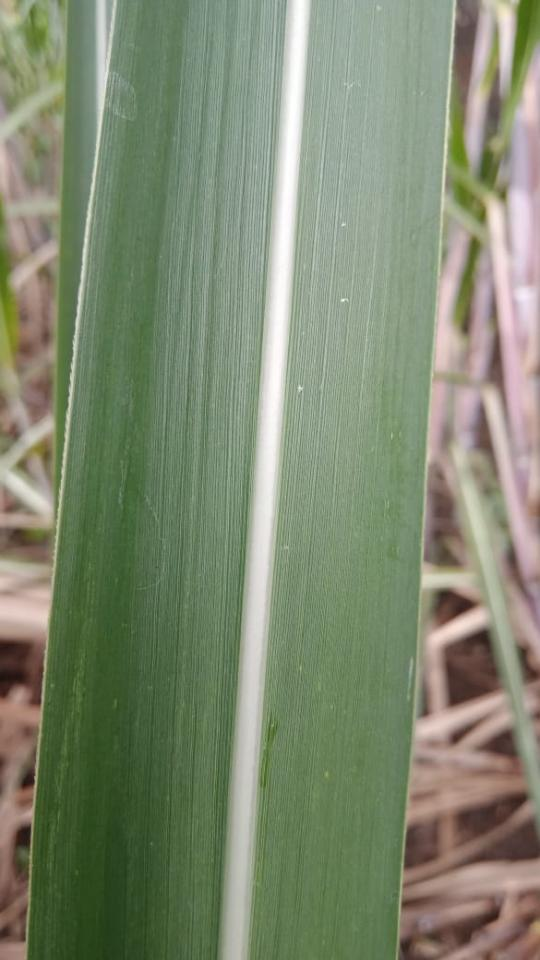Healthy: (28, 0, 456, 959)
